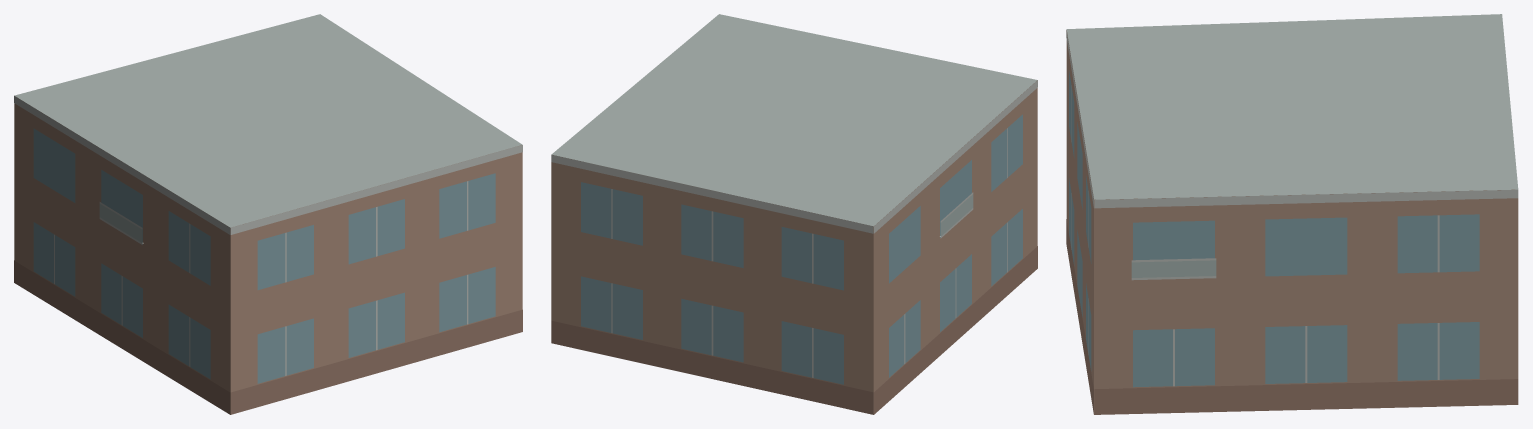
Rendered from survey-upis-32698632.glb.
3 views of the same model, side by side, from view 1: azimuth 30°, elevation 25°; view 2: azimuth 150°, elevation 25°; view 3: azimuth 270°, elevation 25° (orthographic). The views are drawn at different scales.
Parts seen in each view (by area): view 1: survey-upis-32698632.tmp; view 2: survey-upis-32698632.tmp; view 3: survey-upis-32698632.tmp.
Part boxes in pixels (x1,y1,x2,y2): survey-upis-32698632.tmp: [14, 14, 522, 414]; survey-upis-32698632.tmp: [551, 14, 1037, 414]; survey-upis-32698632.tmp: [1066, 14, 1518, 414].
Size of the model in its own units: 11.3 by 6.1 by 11.62.
